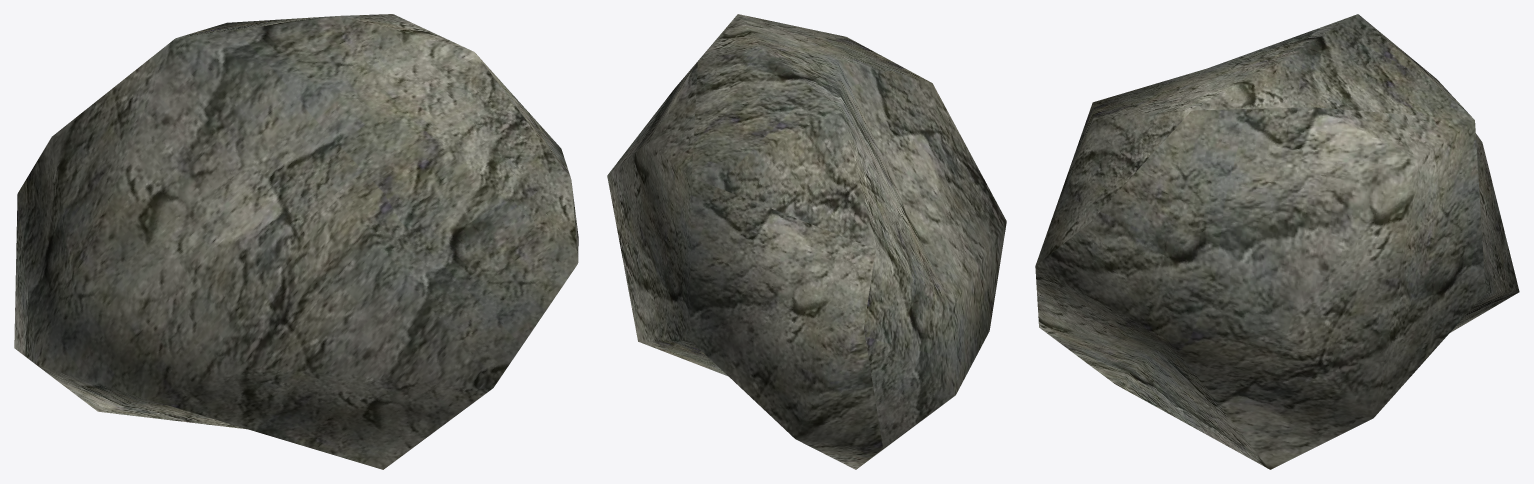
File: MIN_COB_STONE_V3_10.glb
3 renders of one model, left to right at view 1: azimuth 30°, elevation 25°; view 2: azimuth 150°, elevation 25°; view 3: azimuth 270°, elevation 25°, orthographic. The views are drawn at different scales.
Parts seen in each view (by area): view 1: Mesh; view 2: Mesh; view 3: Mesh.
Part boxes in pixels (box(x1,y1,x2,y2)): Mesh: box(14, 14, 578, 469); Mesh: box(607, 14, 1006, 469); Mesh: box(1035, 14, 1519, 469).
Bounding box in the file's own units: 1.19 × 1.02 × 1.17.
1 material, 1 textured.
